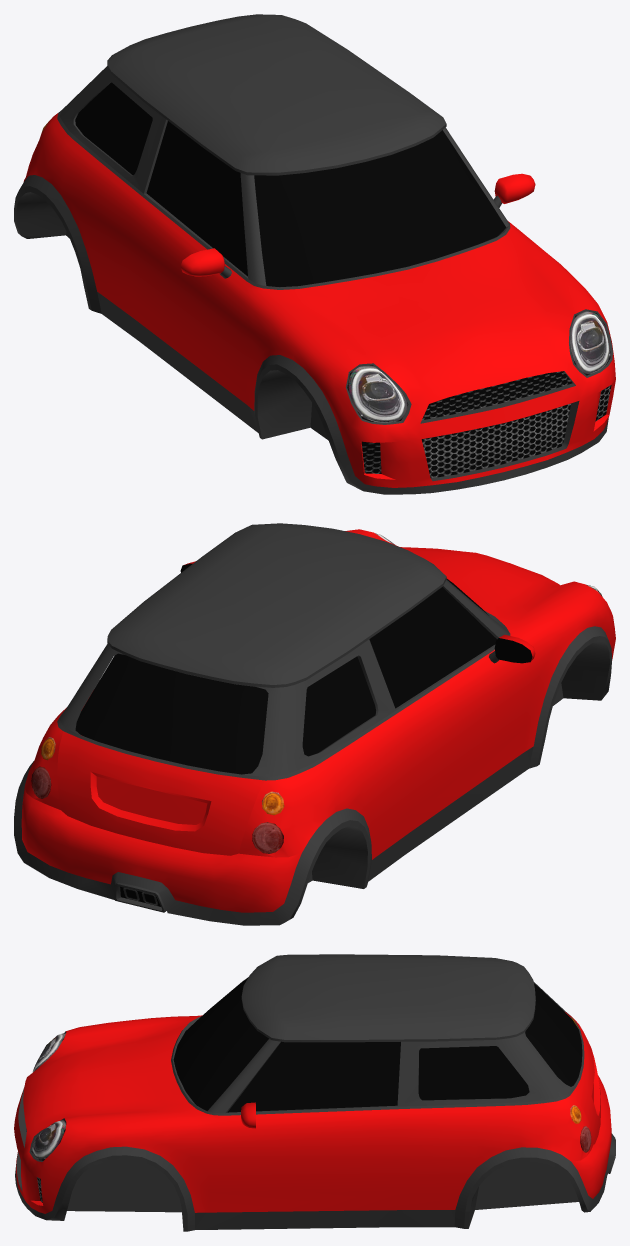
The model's file is HatchBack_3.fbx.
3 views of the same model, one above another, from view 1: azimuth 30°, elevation 25°; view 2: azimuth 150°, elevation 25°; view 3: azimuth 270°, elevation 25° (orthographic). The views are drawn at different scales.
Parts seen in each view (by area): view 1: HatchBack_3; view 2: HatchBack_3; view 3: HatchBack_3.
Part boxes in pixels (bbox=[...]): HatchBack_3: bbox=[14, 14, 615, 494]; HatchBack_3: bbox=[14, 523, 615, 925]; HatchBack_3: bbox=[14, 954, 615, 1231].
Size of the model in its own units: 85.99 by 55.1 by 156.
Materials: 4 (2 with a texture image).
